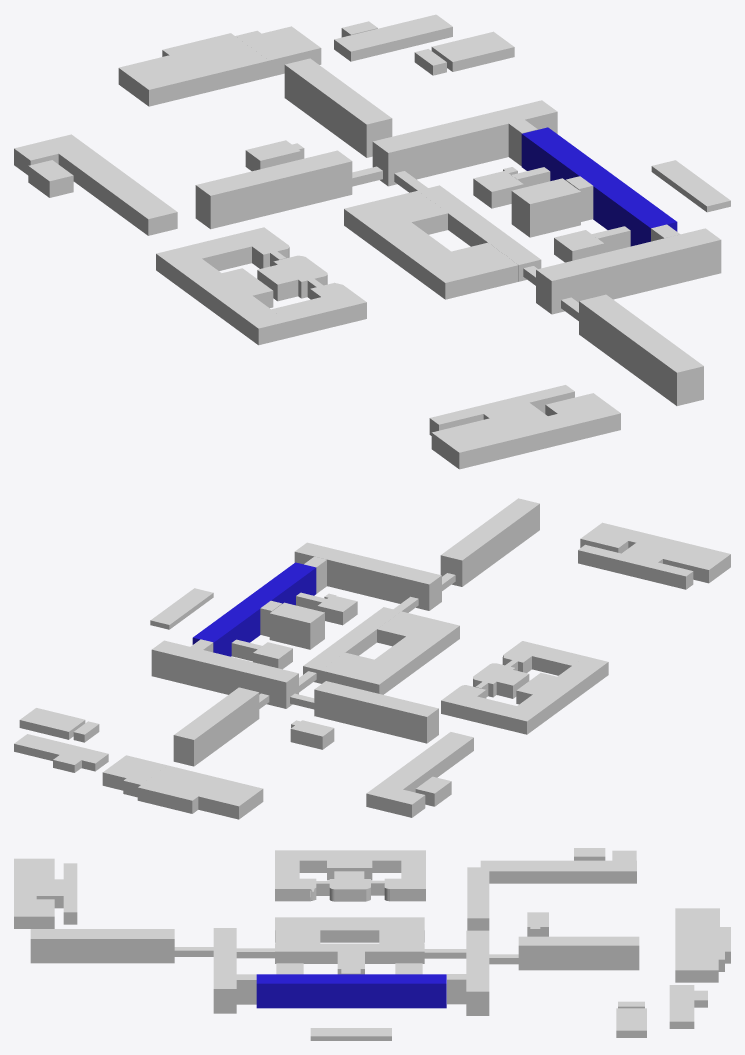
The model's file is Main.fbx.
The picture shows the model from 3 angles, top to bottom: view 1: azimuth 30°, elevation 25°; view 2: azimuth 150°, elevation 25°; view 3: azimuth 270°, elevation 25°; orthographic projection. The views are drawn at different scales.
Visible parts, largest first — view 1: Куб.009, Куб.024, Куб.010, Куб.025, Куб.001, Куб.013, Куб.021, Куб.046, Куб.026, Куб.054, Куб.038, Куб.002 (+23 smaller); view 2: Куб.010, Куб.009, Куб.024, Куб.025, Куб.001, Куб.013, Куб.021, Куб.046, Куб.054, Куб.026, Куб.038, Куб.030 (+23 smaller); view 3: Куб.001, Куб.025, Куб.021, Куб.054, Куб.013, Куб.014, Куб.046, Куб.009, Куб.010, Куб.026, Куб.024, Куб.038 (+27 smaller).
Boxes of the visible parts, x1=… form: Куб.009: x1=536, y1=228, x2=721, y2=314; Куб.024: x1=195, y1=150, x2=352, y2=229; Куб.010: x1=372, y1=100, x2=557, y2=186; Куб.025: x1=579, y1=294, x2=703, y2=405; Куб.001: x1=521, y1=127, x2=677, y2=246; Куб.013: x1=344, y1=200, x2=481, y2=299; Куб.021: x1=284, y1=58, x2=392, y2=157; Куб.046: x1=156, y1=246, x2=287, y2=345; Куб.026: x1=431, y1=407, x2=562, y2=469; Куб.054: x1=43, y1=134, x2=177, y2=235; Куб.038: x1=162, y1=33, x2=268, y2=93; Куб.002: x1=511, y1=178, x2=580, y2=237; Куб.010: x1=151, y1=640, x2=298, y2=708; Куб.009: x1=294, y1=542, x2=441, y2=610; Куб.024: x1=314, y1=681, x2=438, y2=743; Куб.025: x1=440, y1=498, x2=539, y2=586; Куб.001: x1=192, y1=562, x2=316, y2=656; Куб.013: x1=350, y1=618, x2=459, y2=694; Куб.021: x1=173, y1=687, x2=259, y2=766; Куб.046: x1=504, y1=656, x2=608, y2=734; Куб.054: x1=366, y1=732, x2=473, y2=812; Куб.026: x1=627, y1=534, x2=730, y2=583; Куб.038: x1=137, y1=765, x2=221, y2=813; Куб.030: x1=578, y1=544, x2=693, y2=589; Куб.001: x1=256, y1=974, x2=446, y2=1008; Куб.025: x1=30, y1=929, x2=174, y2=963; Куб.021: x1=518, y1=936, x2=639, y2=970; Куб.054: x1=480, y1=860, x2=636, y2=883; Куб.013: x1=275, y1=917, x2=424, y2=942; Куб.014: x1=275, y1=943, x2=424, y2=963; Куб.046: x1=275, y1=850, x2=425, y2=872; Куб.009: x1=213, y1=928, x2=236, y2=1013; Куб.010: x1=466, y1=930, x2=489, y2=1015; Куб.026: x1=14, y1=858, x2=54, y2=899; Куб.024: x1=467, y1=867, x2=489, y2=930; Куб.038: x1=675, y1=927, x2=730, y2=963.
Bounding box in the file's own units: 62860 × 4173 × 105581.
